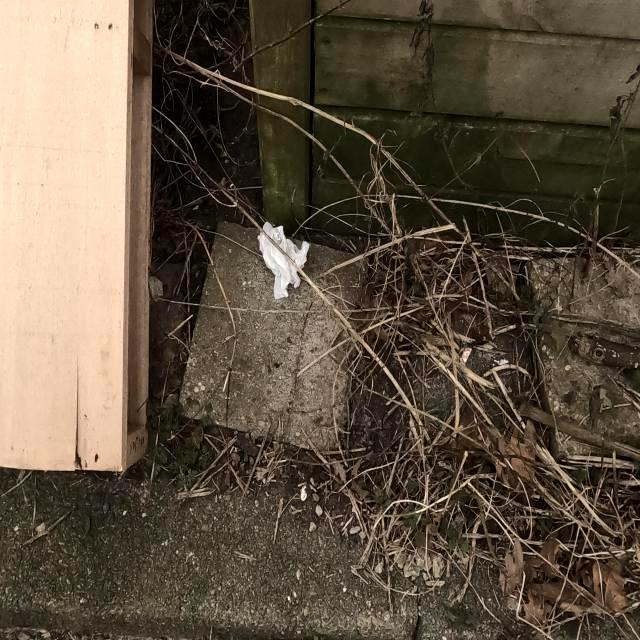Paper: (256, 220, 312, 302)
